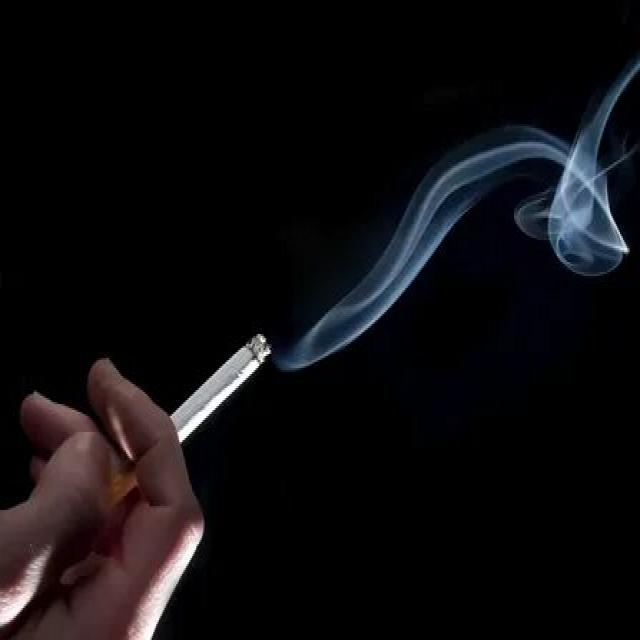cigarette: (102, 326, 275, 504)
